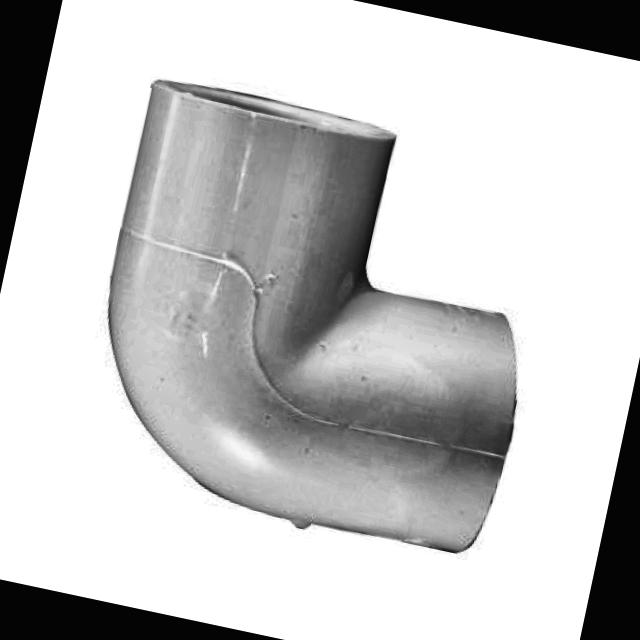ELBOW90: (105, 78, 516, 555)
